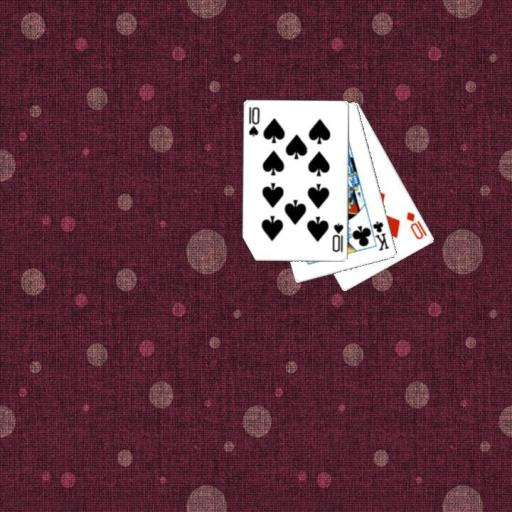10D: (403, 208, 429, 241)
10S: (245, 104, 261, 139), (329, 220, 345, 254)
KC: (366, 217, 391, 252)
